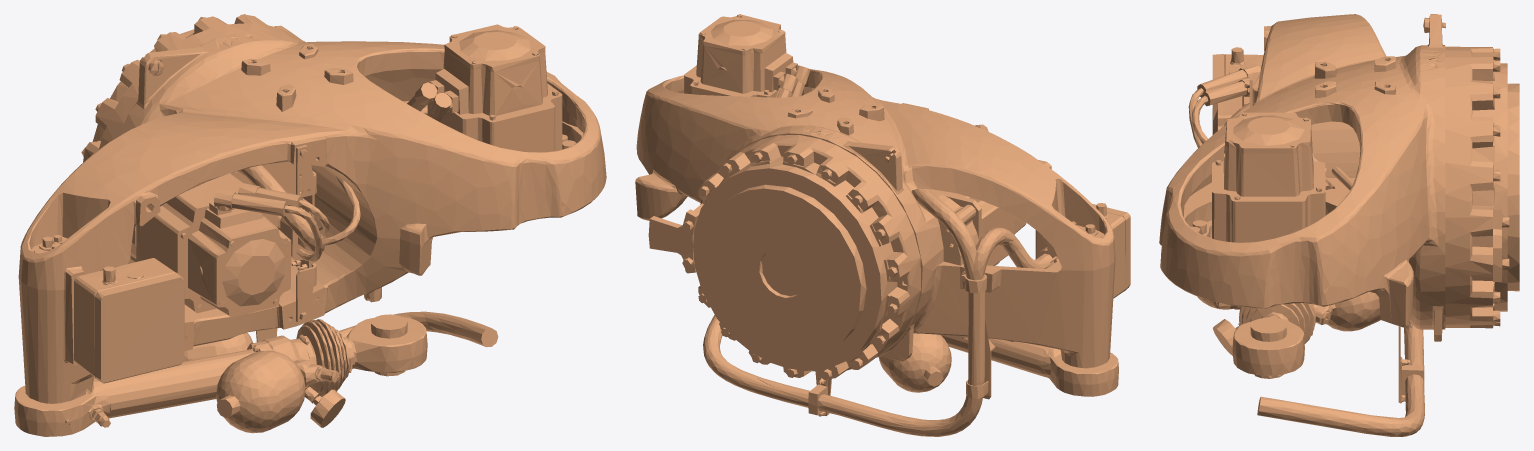
3 views of the same model, side by side, from view 1: azimuth 30°, elevation 25°; view 2: azimuth 150°, elevation 25°; view 3: azimuth 270°, elevation 25° (orthographic). The views are drawn at different scales.
Visible parts, largest first — view 1: /Link_1/Link_1_002-mesh/0; view 2: /Link_1/Link_1_002-mesh/0; view 3: /Link_1/Link_1_002-mesh/0.
Boxes of the visible parts, x1=… form: /Link_1/Link_1_002-mesh/0: x1=14, y1=14, x2=606, y2=436; /Link_1/Link_1_002-mesh/0: x1=635, y1=14, x2=1130, y2=436; /Link_1/Link_1_002-mesh/0: x1=1159, y1=14, x2=1519, y2=436.
Size of the model in its own units: 1.05 by 0.6522 by 0.6023.
